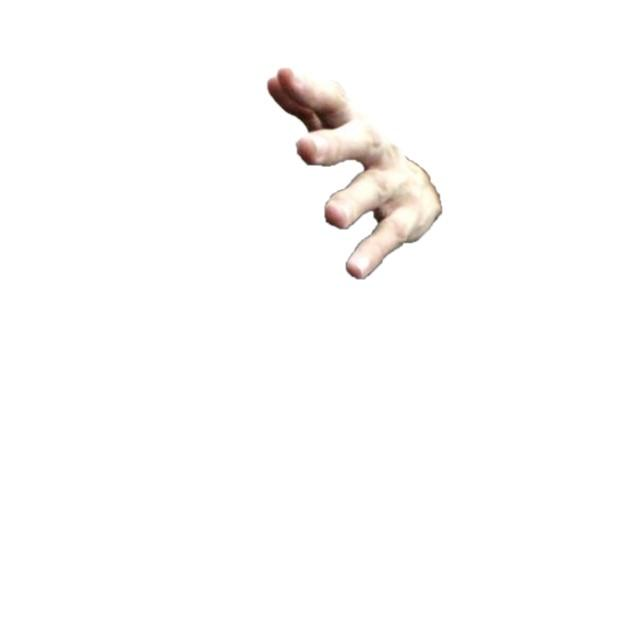pa-: (265, 66, 444, 280)
